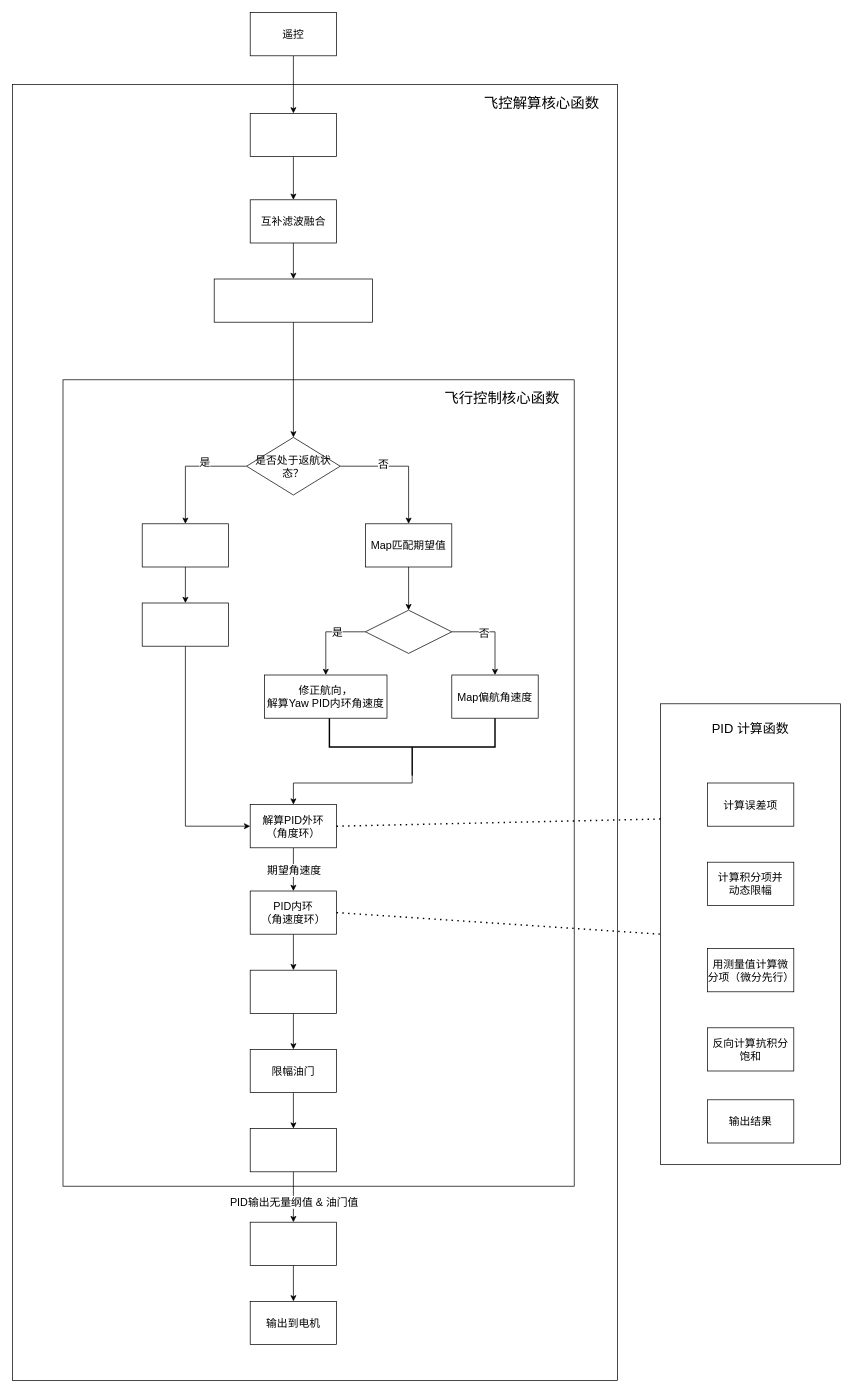
The diagram is 853 pixels wide and 1393 high, and some of its shapes have lost their labels. The box of each missing label's shape, as (x1, y1, x2, y2) in pixels:
RTH更新姿态角: (141, 523, 229, 567)
姿态解算: (249, 113, 337, 157)
带倾角补偿通过旋转投影Yaw到水平面: (213, 278, 373, 322)
是否锁定偏航？: (365, 609, 452, 653)
混控器: (249, 1221, 337, 1265)
确定无量纲输出值: (249, 969, 337, 1013)
解算Yaw PID内环角速度: (141, 602, 229, 646)
限幅三轴PID输出: (249, 1128, 337, 1172)
